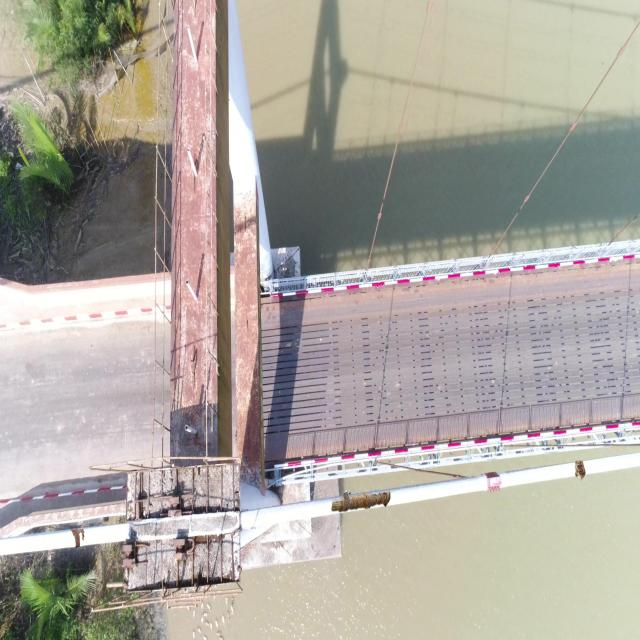corrosion: (331, 491, 391, 512), (70, 528, 85, 547), (574, 460, 586, 482)
